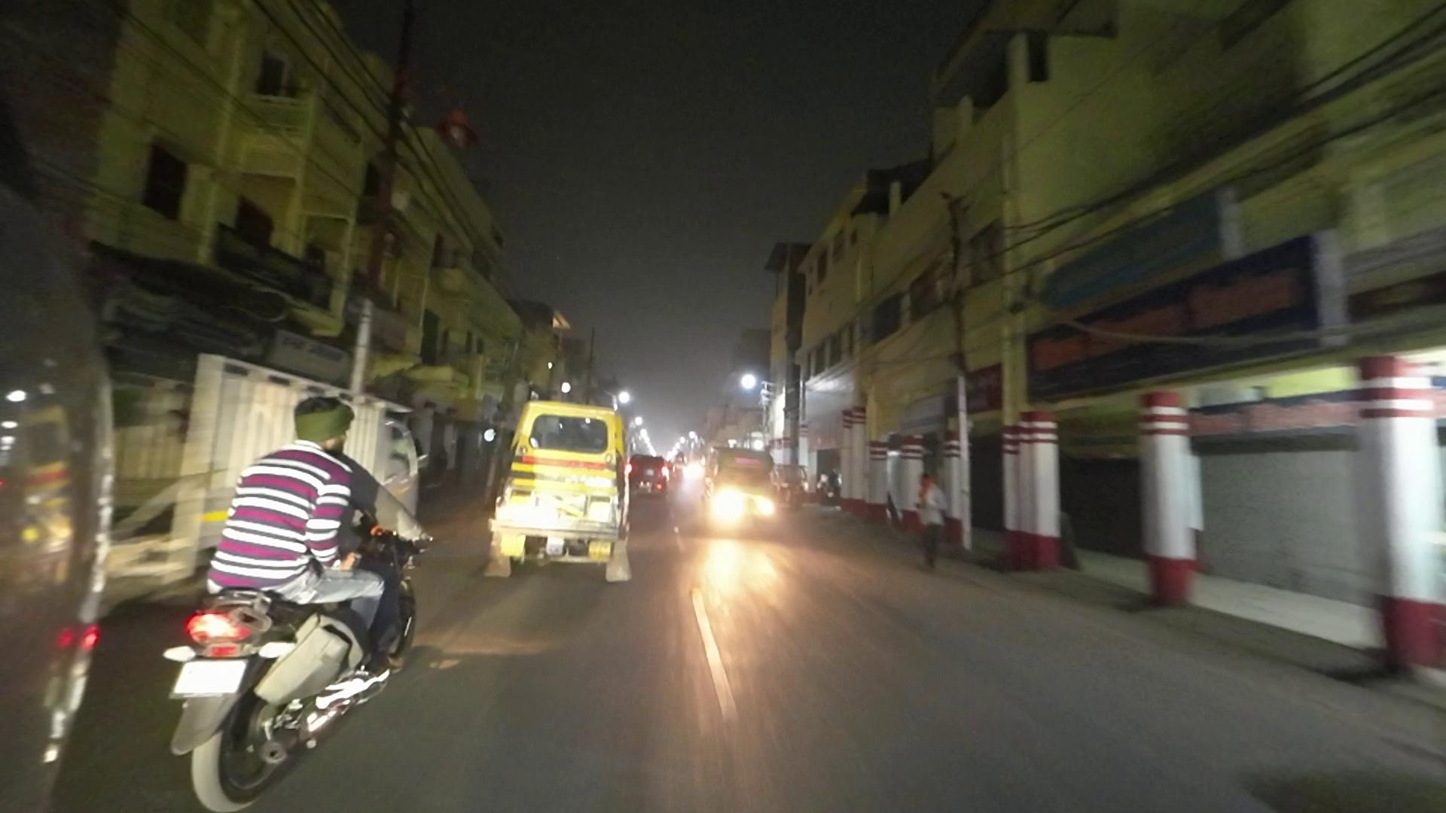streetlight: (433, 105, 481, 152)
